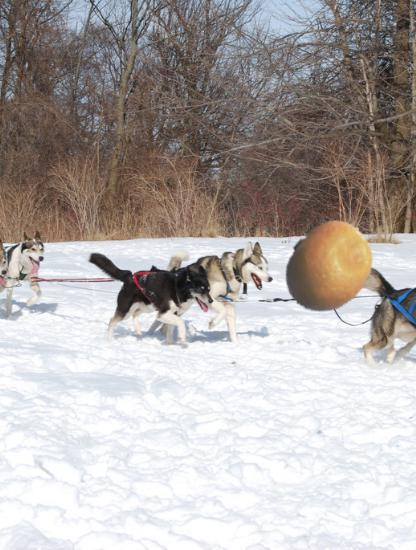Kumquats: (280, 218, 379, 317)
